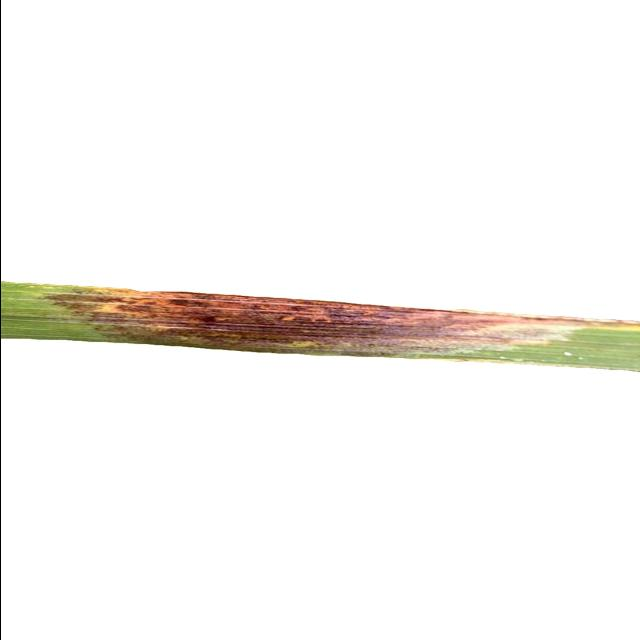Leaf scald: (0, 191, 640, 405)
